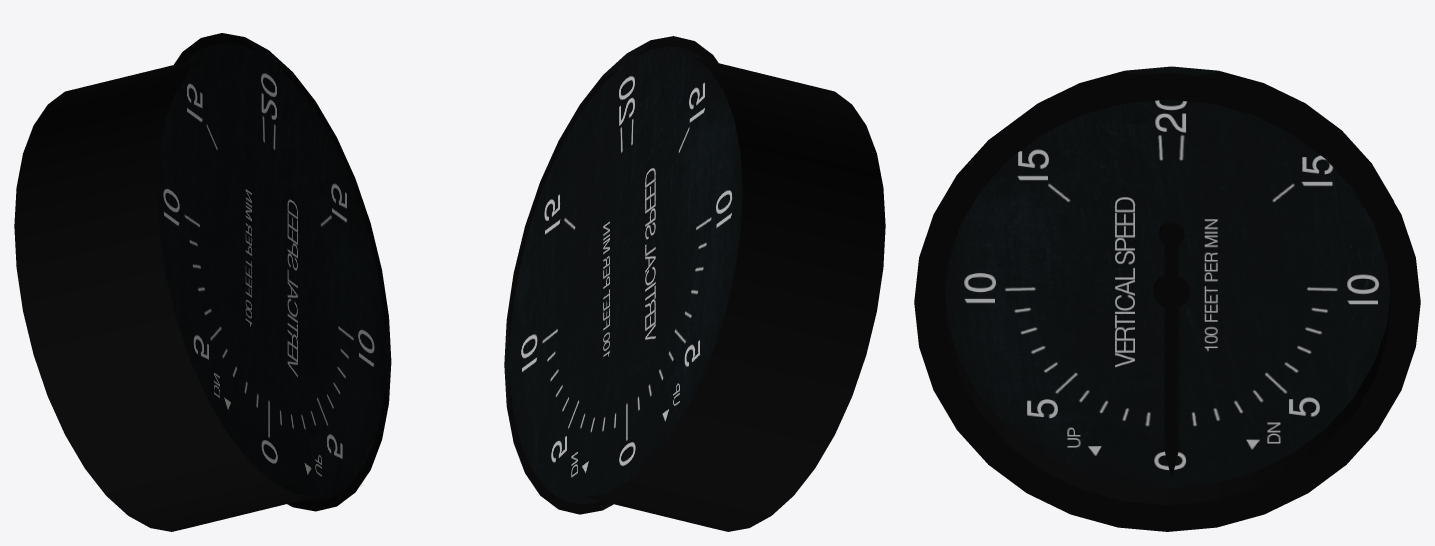
File: vsi.gltf
3 renders of one model, left to right at view 1: azimuth 30°, elevation 25°; view 2: azimuth 150°, elevation 25°; view 3: azimuth 270°, elevation 25°, orthographic.
Parts seen in each view (by area): view 1: Face, Case; view 2: Face, Case; view 3: Face, Case, PointerCentre, PointerTip.
Part boxes in pixels (x1,y1,x2,y2): Face: (157,33,391,511); Case: (14,57,317,531); Face: (504,36,742,514); Case: (582,57,885,531); Face: (944,66,1393,487); Case: (914,73,1420,531); PointerCentre: (1153,221,1189,324); PointerTip: (1164,324,1178,478).
Size of the model in its own units: 0.032 by 0.08 by 0.08.
1 material, 1 textured.
